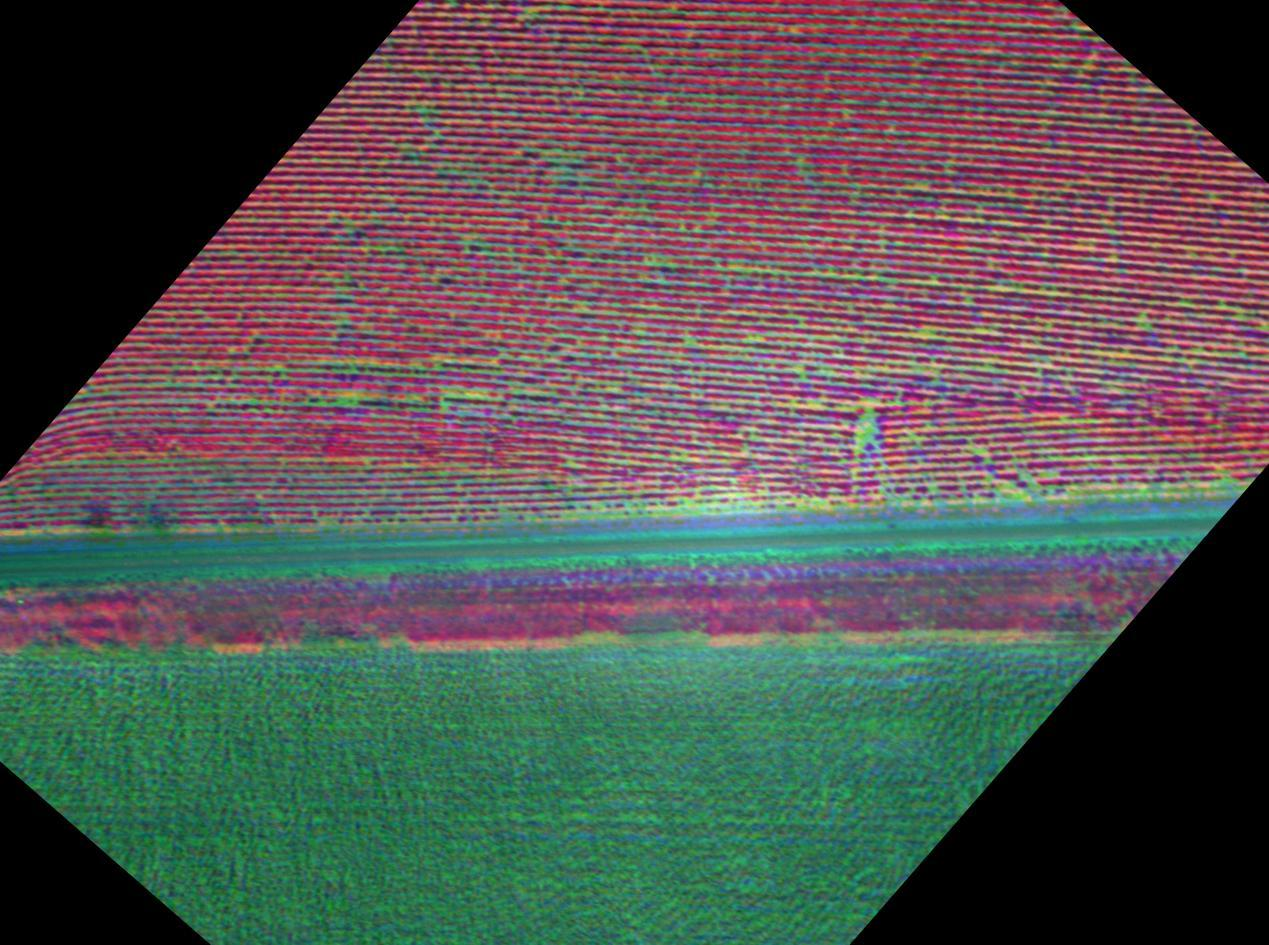dc: (915, 369, 921, 374), (867, 415, 873, 420), (655, 262, 660, 266), (851, 275, 856, 279), (868, 367, 873, 371), (863, 437, 867, 442), (436, 134, 440, 138), (436, 366, 440, 370), (797, 368, 801, 372), (976, 450, 980, 454), (978, 329, 982, 332)
